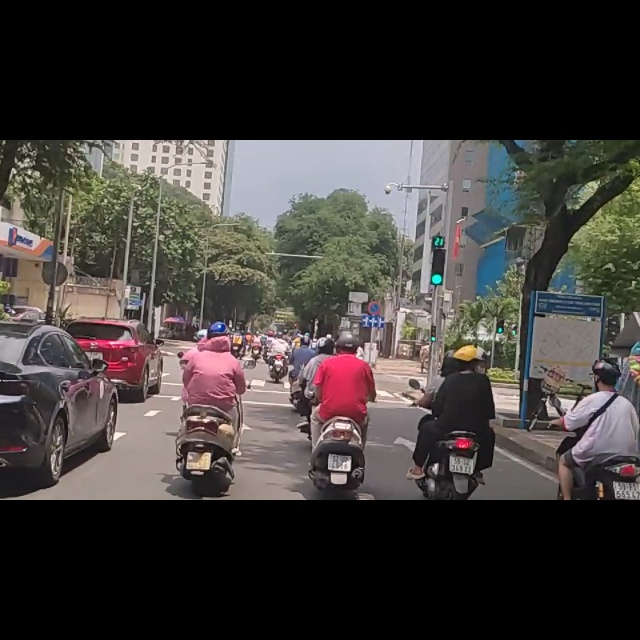bien_chi_dan: (365, 286, 382, 312)
